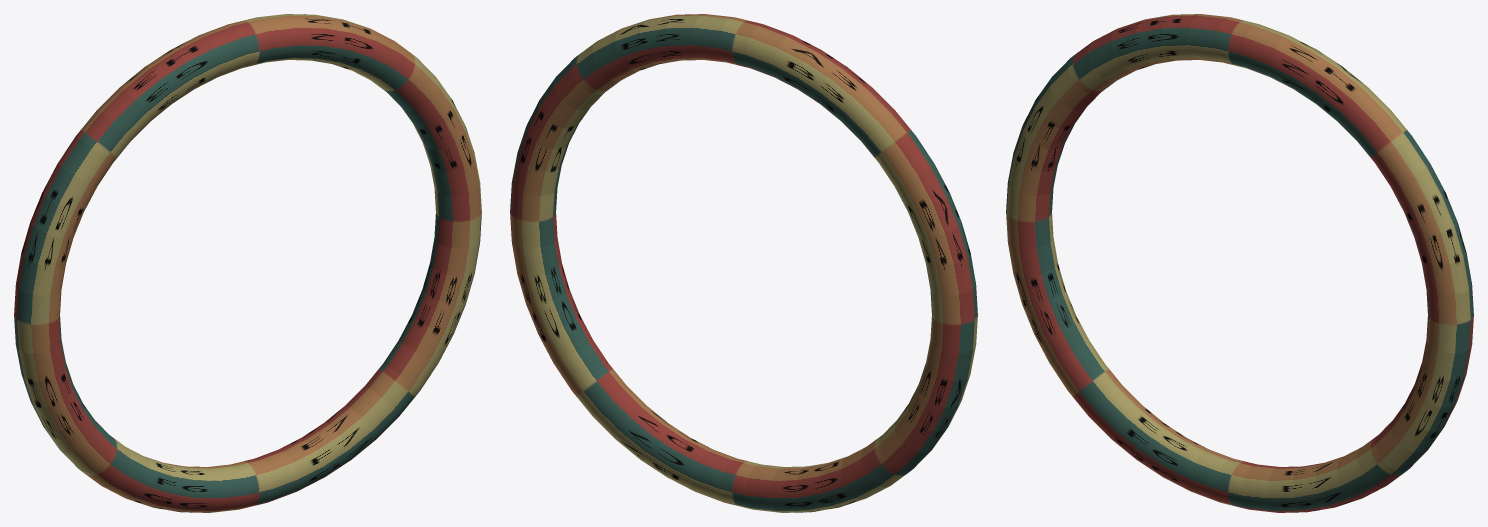
Rendered from texture_torus_R21_r1.glb.
3 views of the same model, side by side, from view 1: azimuth 30°, elevation 25°; view 2: azimuth 150°, elevation 25°; view 3: azimuth 330°, elevation 25° (orthographic).
Visible parts, largest first — view 1: world; view 2: world; view 3: world.
Boxes of the visible parts, x1,y1,x2,y2 form: world: [14, 14, 481, 512]; world: [510, 14, 977, 512]; world: [1006, 14, 1473, 512].
Bounding box in the file's own units: 26.27 × 26.21 × 2.26.
Materials: 1 (1 with a texture image).
